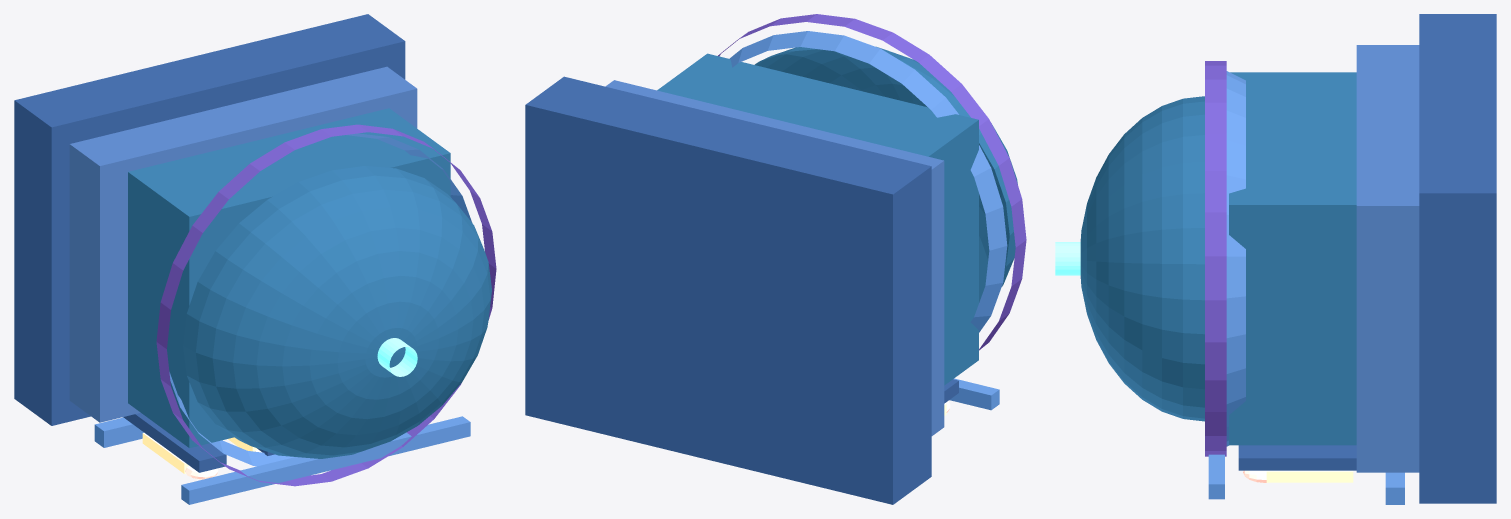
File: SpalakhSunkenObservatory_v095.glb
3 renders of one model, left to right at view 1: azimuth 30°, elevation 25°; view 2: azimuth 150°, elevation 25°; view 3: azimuth 270°, elevation 25°, orthographic. The views are drawn at different scales.
Size of the model in its own units: 0.88 by 0.82 by 0.915.
